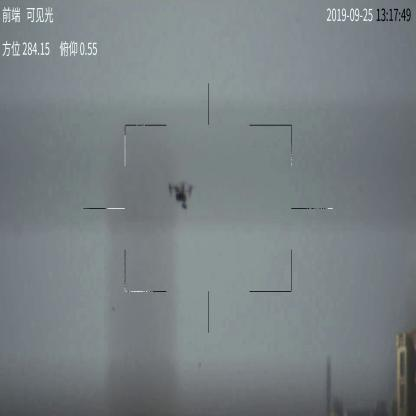uav: (167, 181, 195, 210)
